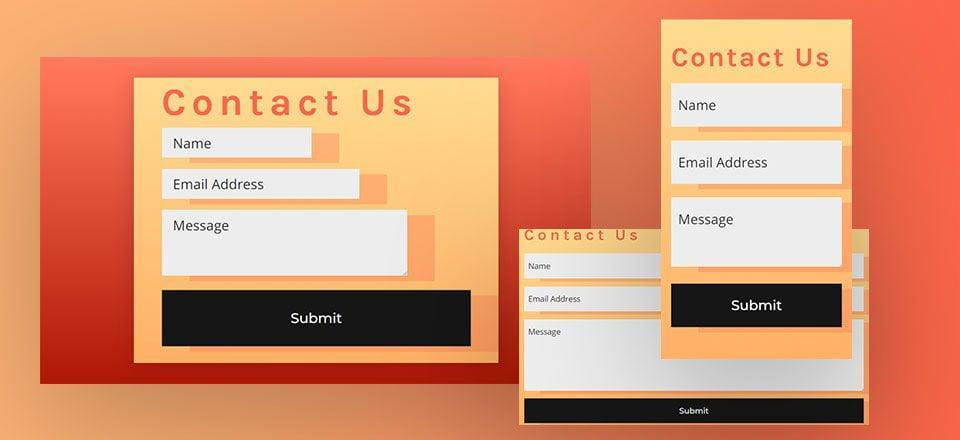button: (161, 288, 474, 350), (672, 283, 844, 331)
input: (671, 196, 845, 270), (669, 82, 844, 132), (671, 142, 844, 186), (162, 166, 361, 202), (163, 128, 314, 159)
label: (157, 86, 413, 120), (670, 41, 834, 71)
